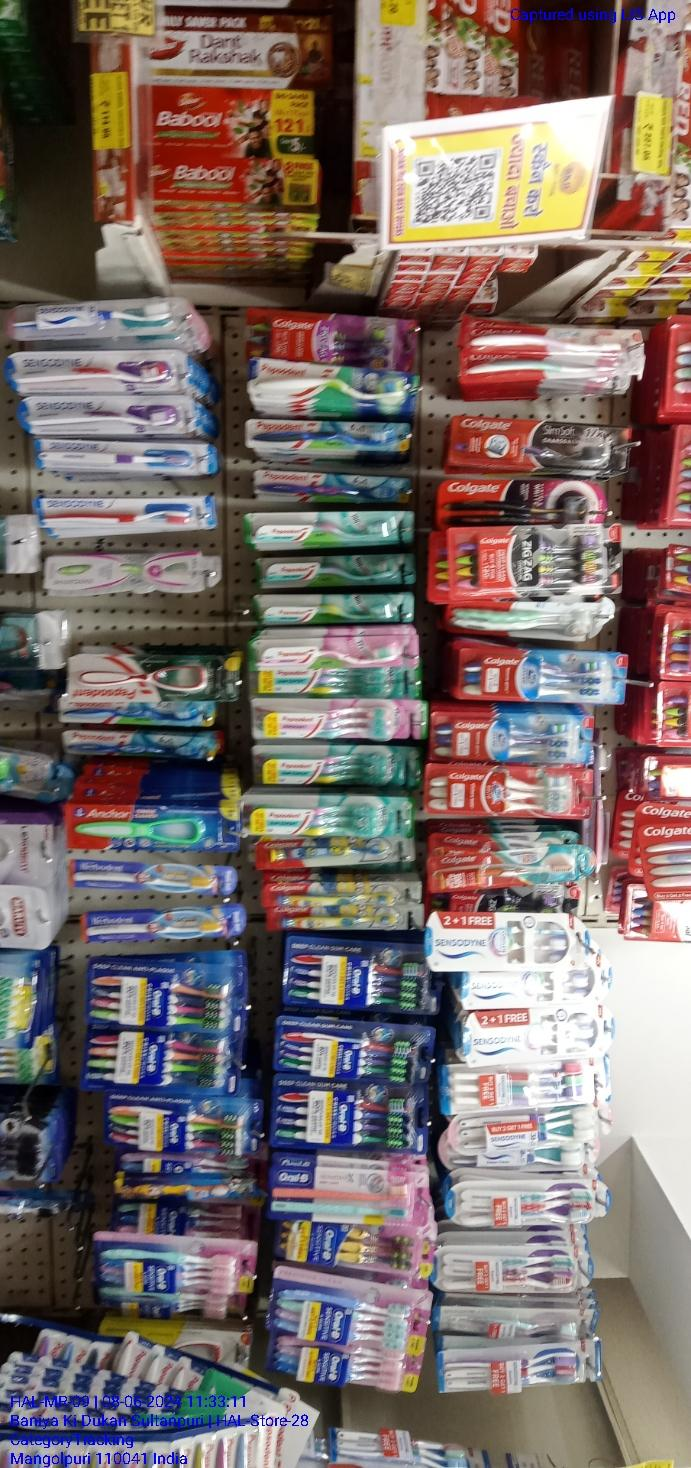10: (581, 928, 610, 1280)
11: (374, 590, 394, 948), (349, 578, 369, 931), (314, 573, 328, 939)
12: (328, 566, 347, 935)
13: (297, 583, 312, 945)
15: (632, 191, 657, 539)
4: (427, 217, 456, 572), (475, 160, 500, 479), (456, 172, 474, 497)
5: (525, 198, 543, 513)
6: (554, 170, 578, 522), (586, 205, 609, 554)
8: (501, 168, 524, 535)
liquid soap: (249, 142, 280, 518)
soap: (197, 129, 219, 511)
